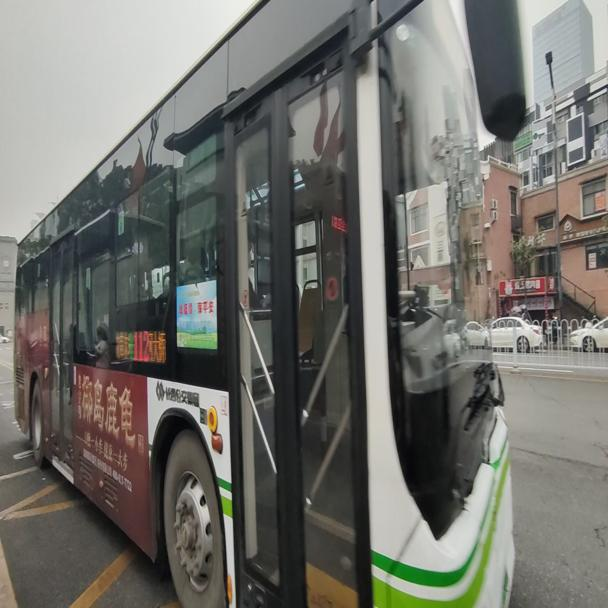screen: (133, 324, 149, 365)
